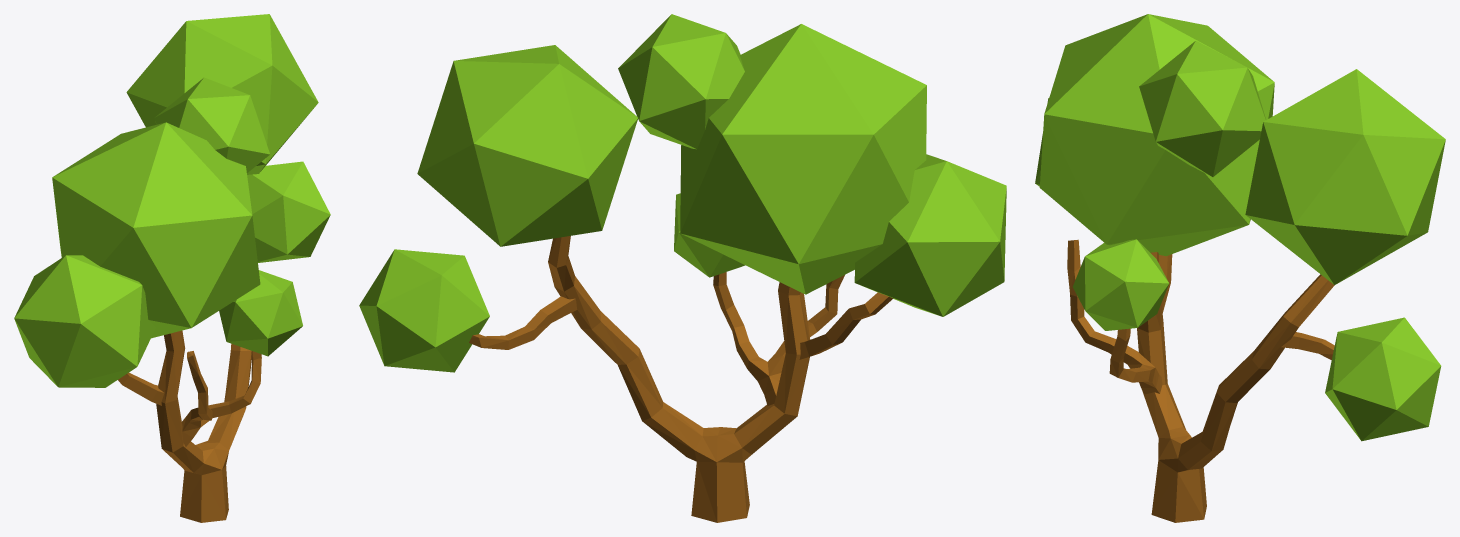
File: tree2.obj
The picture shows the model from 3 angles, left to right: view 1: azimuth 30°, elevation 25°; view 2: azimuth 150°, elevation 25°; view 3: azimuth 270°, elevation 25°; orthographic projection. The views are drawn at different scales.
Parts seen in each view (by area): view 1: Default; view 2: Default; view 3: Default.
Boxes of the visible parts, box(x1,y1,x2,y2) form: Default: box(14, 14, 330, 522); Default: box(359, 14, 1006, 522); Default: box(1035, 14, 1445, 522).
Size of the model in its own units: 27.98 by 26.54 by 20.8.
